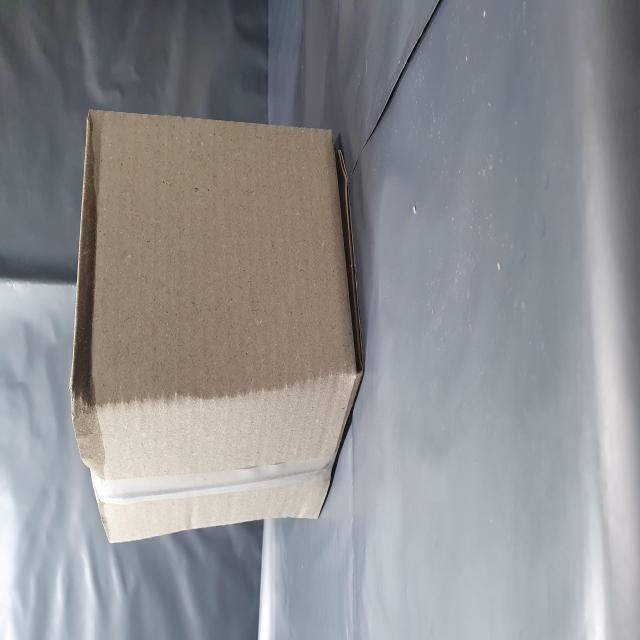wet: (77, 124, 300, 203)
